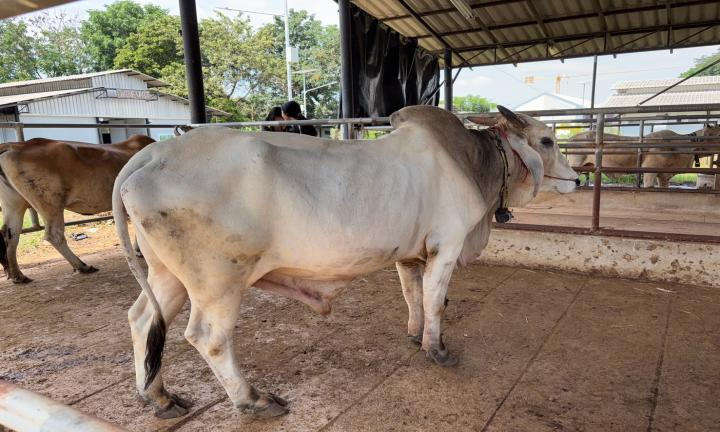Brahman: (113, 105, 579, 417)
